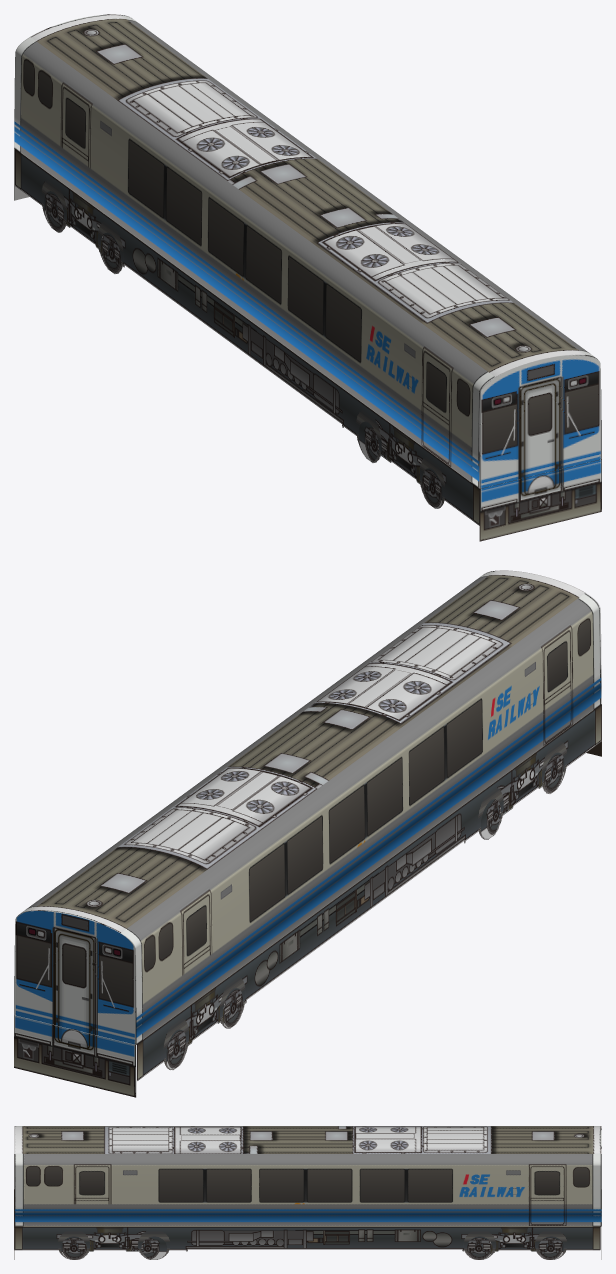
The model's file is car1.glb.
3 views of the same model, one above another, from view 1: azimuth 30°, elevation 25°; view 2: azimuth 150°, elevation 25°; view 3: azimuth 270°, elevation 25° (orthographic). The views are drawn at different scales.
Visible parts, largest first — view 1: ise-ise3-car1; view 2: ise-ise3-car1; view 3: ise-ise3-car1.
Boxes of the visible parts, x1=… form: ise-ise3-car1: x1=14, y1=14, x2=601, y2=541; ise-ise3-car1: x1=14, y1=570, x2=601, y2=1097; ise-ise3-car1: x1=14, y1=1126, x2=601, y2=1259.
Bounding box in the file's own units: 2.8 × 3.65 × 18.53.
9 materials, 8 textured.
